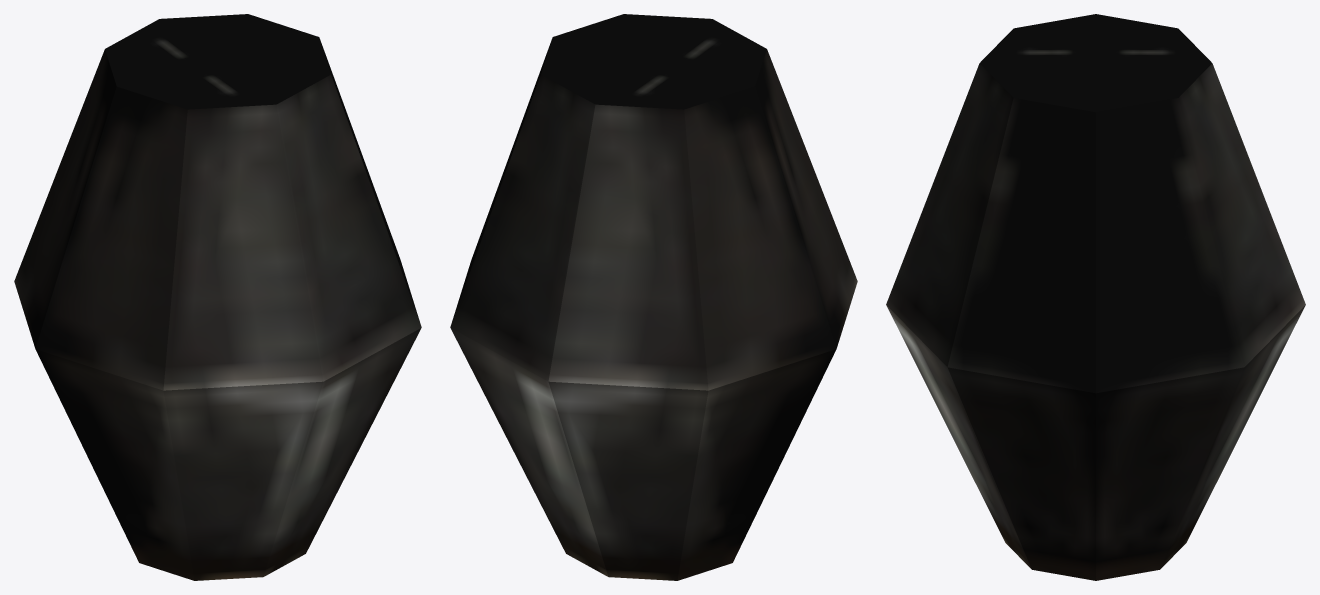
File: Mace_tail_default.FBX
The picture shows the model from 3 angles, left to right: view 1: azimuth 30°, elevation 25°; view 2: azimuth 150°, elevation 25°; view 3: azimuth 270°, elevation 25°; orthographic projection.
Parts seen in each view (by area): view 1: Mace_tail_default; view 2: Mace_tail_default; view 3: Mace_tail_default.
Part boxes in pixels (x1,y1,x2,y2): Mace_tail_default: (14, 14, 421, 580); Mace_tail_default: (450, 14, 857, 580); Mace_tail_default: (886, 14, 1305, 580).
Bounding box in the file's own units: 7.53 × 9.49 × 7.53.
Materials: 1 (1 with a texture image).
